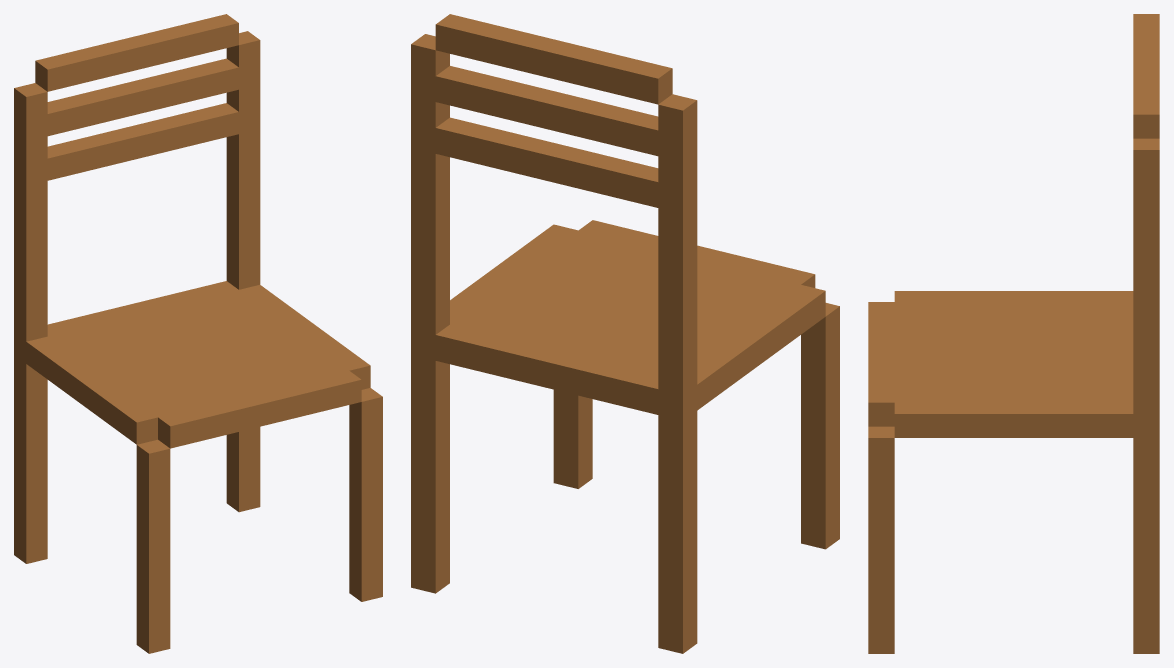
File: Chair.obj
3 renders of one model, left to right at view 1: azimuth 30°, elevation 25°; view 2: azimuth 150°, elevation 25°; view 3: azimuth 270°, elevation 25°, orthographic. The views are drawn at different scales.
Parts seen in each view (by area): view 1: Chair; view 2: Chair; view 3: Chair.
Boxes of the visible parts, <box> form: Chair: <box>14,14,382,653</box>; Chair: <box>411,14,839,653</box>; Chair: <box>868,14,1159,653</box>.
Size of the model in its own units: 11 by 22 by 11.
